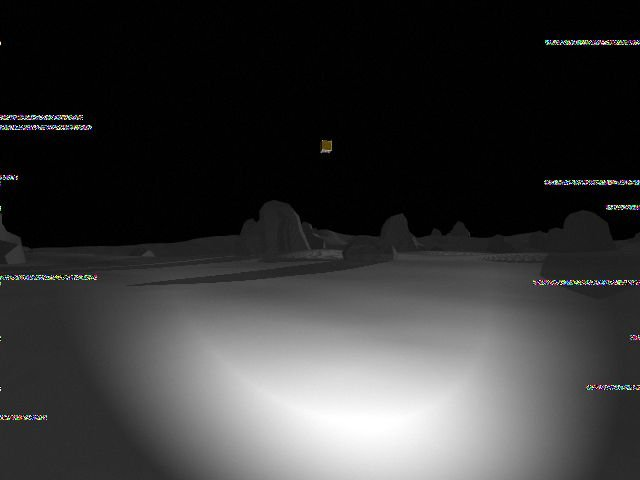cubesat: (318, 137, 335, 155)
